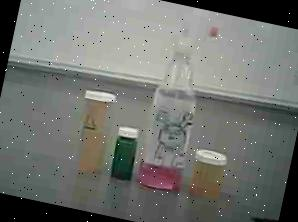Bottle A: (62, 78, 123, 180)
Bottle B: (184, 140, 235, 211)
Bottle C: (104, 114, 150, 189)
hazard: (135, 10, 224, 198)
